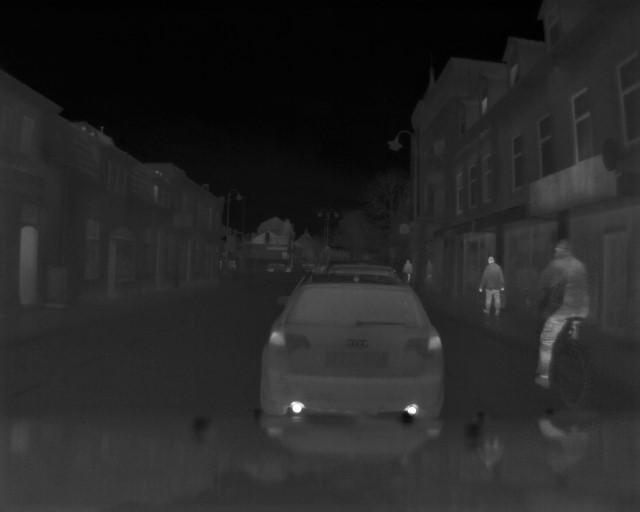car: (265, 280, 443, 422)
person: (538, 236, 587, 386), (475, 250, 508, 318), (403, 257, 415, 284)
